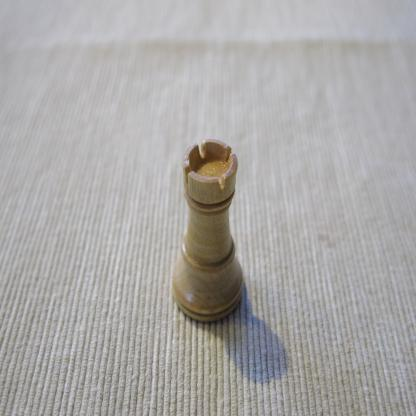white-rook: (172, 138, 244, 324)
